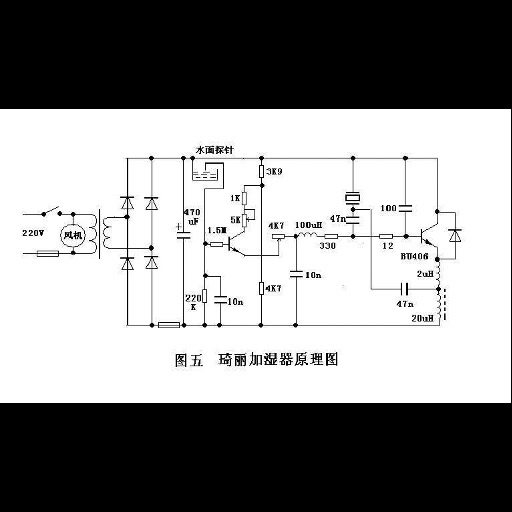capacitor: (287, 268, 305, 282), (213, 293, 228, 308), (398, 202, 414, 216), (398, 280, 411, 297), (345, 214, 361, 227)
firstpolarcapacitor: (172, 224, 193, 243)
firstresistance: (256, 280, 265, 300), (209, 239, 225, 250), (377, 232, 396, 241), (241, 190, 250, 207), (202, 286, 209, 306), (322, 233, 342, 240)
fuse: (157, 320, 181, 332), (35, 248, 61, 259)
inductor: (433, 259, 443, 289), (433, 292, 443, 321), (296, 231, 319, 239)
npn: (416, 220, 441, 250), (227, 230, 249, 261)
seconddiode: (141, 195, 164, 214), (140, 253, 162, 271), (116, 193, 137, 211), (118, 255, 135, 274), (447, 227, 464, 245)
transformer: (86, 209, 113, 260)
